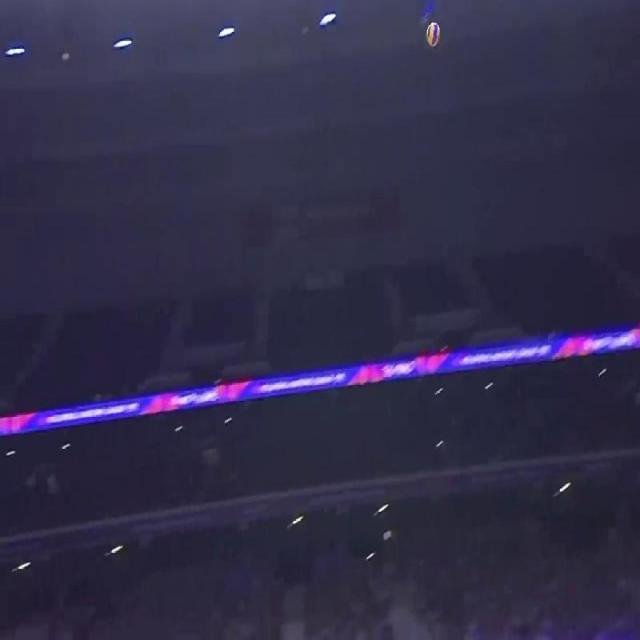volleyball: (426, 22, 439, 48)
